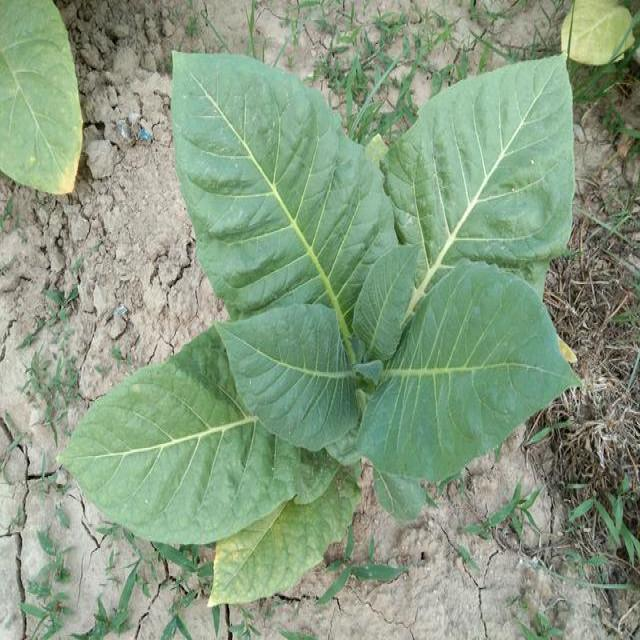crop: (52, 26, 590, 640)
